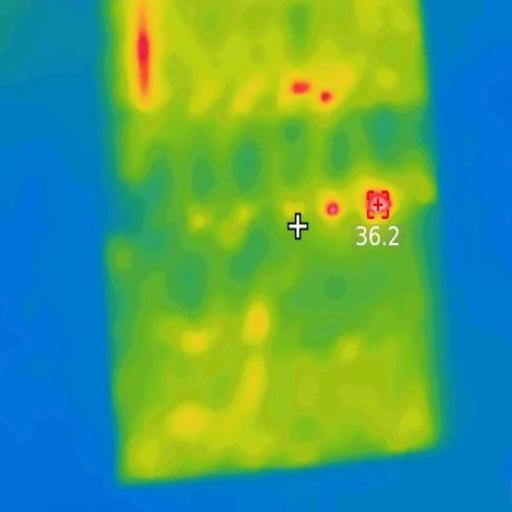hotspot: (135, 30, 155, 94), (365, 189, 391, 219), (290, 78, 314, 98), (326, 199, 341, 218), (319, 92, 335, 106)
